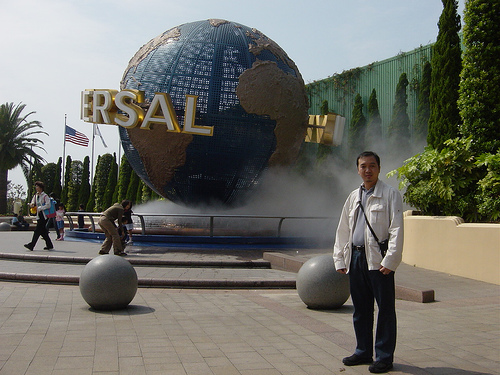without_mask: (356, 155, 382, 183), (34, 180, 44, 194)
